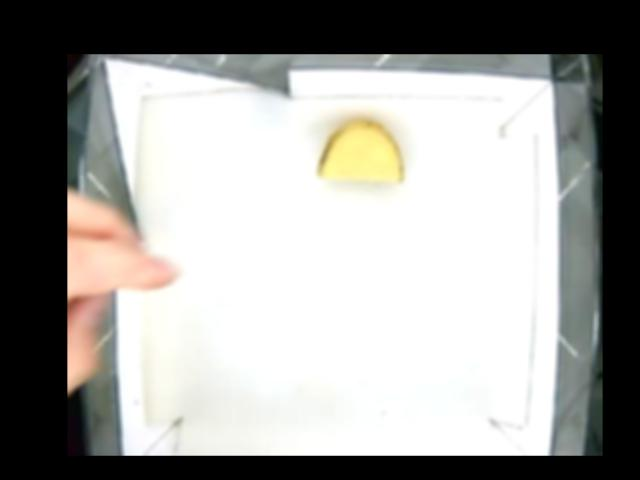Potato: (316, 121, 404, 182)
